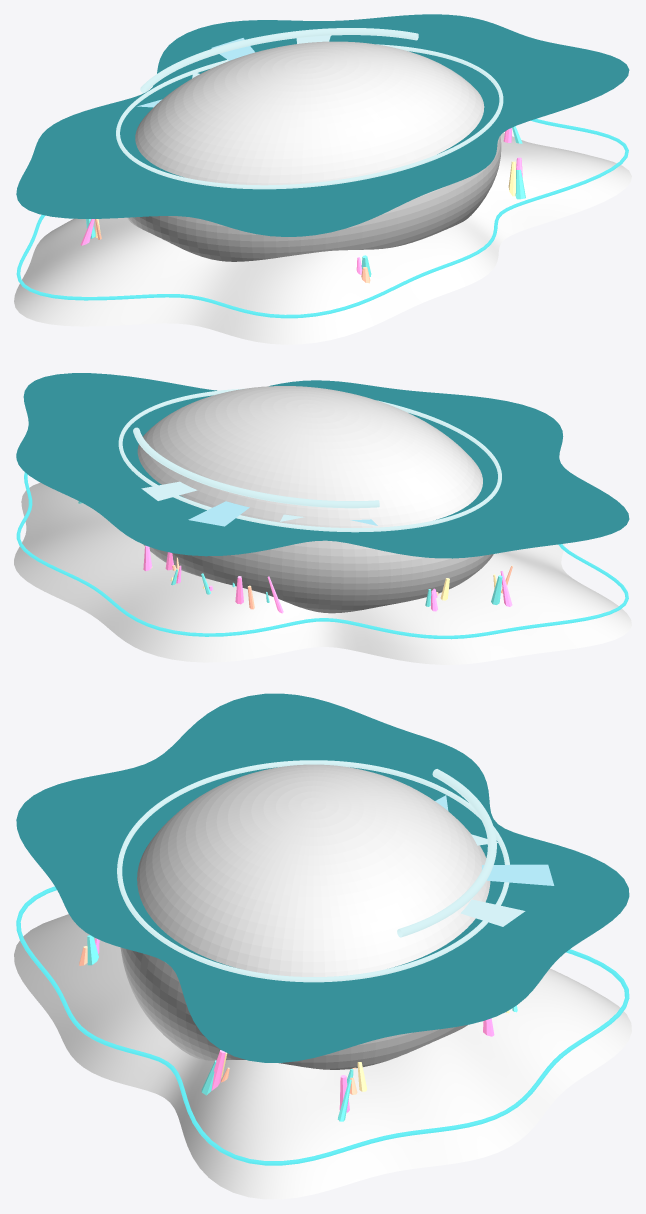
Rendered from fish-man-island.glb.
3 renders of one model, top to bottom at view 1: azimuth 30°, elevation 25°; view 2: azimuth 150°, elevation 25°; view 3: azimuth 270°, elevation 25°, orthographic. The views are drawn at different scales.
Visible parts, largest first — view 1: Bubble dome, Deep distance fog, Fish-Man Island — exact HeroRing footprint, Inner coastline glow, Bubble dome rim, Bubble dome rim highlight; view 2: Bubble dome, Deep distance fog, Fish-Man Island — exact HeroRing footprint, Inner coastline glow, Bubble dome rim, Bubble dome rim highlight, Light shaft 3, Light shaft 4; view 3: Deep distance fog, Fish-Man Island — exact HeroRing footprint, Bubble dome, Bubble dome rim, Inner coastline glow, Bubble dome rim highlight, Light shaft 3, Light shaft 4.
Part boxes in pixels (bbox=[...]): Bubble dome: bbox=[127, 41, 501, 261]; Deep distance fog: bbox=[16, 14, 629, 236]; Fish-Man Island — exact HeroRing footprint: bbox=[14, 132, 631, 344]; Inner coastline glow: bbox=[16, 119, 628, 318]; Bubble dome rim: bbox=[116, 44, 503, 189]; Bubble dome rim highlight: bbox=[140, 28, 418, 92]; Bubble dome: bbox=[137, 386, 493, 613]; Deep distance fog: bbox=[16, 373, 629, 558]; Fish-Man Island — exact HeroRing footprint: bbox=[14, 482, 631, 664]; Inner coastline glow: bbox=[16, 472, 628, 639]; Bubble dome rim: bbox=[118, 388, 501, 532]; Bubble dome rim highlight: bbox=[133, 427, 379, 508]; Light shaft 3: bbox=[188, 501, 249, 526]; Light shaft 4: bbox=[141, 481, 197, 500]; Deep distance fog: bbox=[16, 693, 629, 1062]; Fish-Man Island — exact HeroRing footprint: bbox=[14, 914, 631, 1199]; Bubble dome: bbox=[120, 764, 490, 1069]; Bubble dome rim: bbox=[117, 760, 509, 982]; Inner coastline glow: bbox=[16, 886, 629, 1165]; Bubble dome rim highlight: bbox=[397, 769, 496, 937]; Light shaft 3: bbox=[482, 864, 554, 885]; Light shaft 4: bbox=[460, 899, 525, 926].
Bounding box in the file's own units: 5.03 × 1.6 × 3.53.
